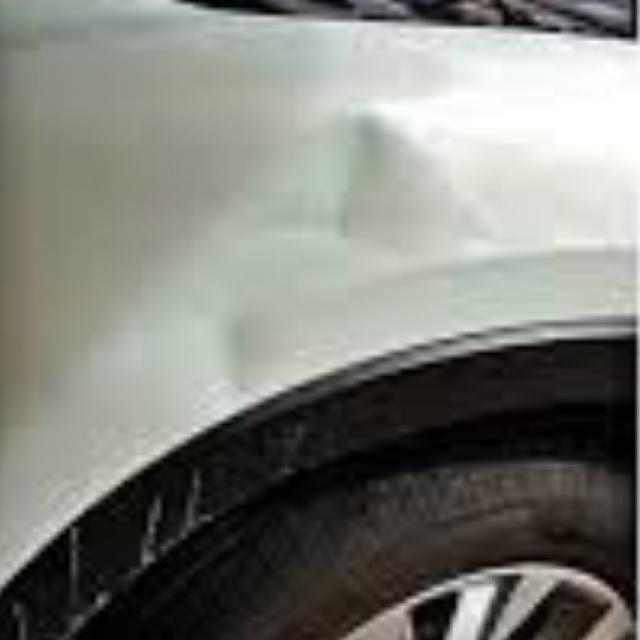dents: (313, 110, 497, 262), (183, 284, 297, 398)
